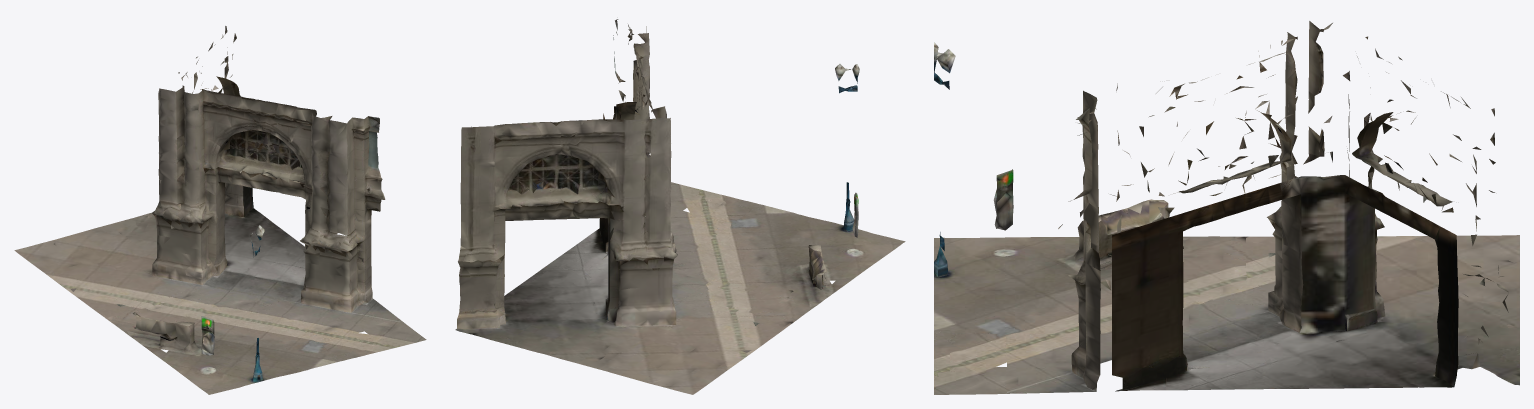
3 views of the same model, side by side, from view 1: azimuth 30°, elevation 25°; view 2: azimuth 150°, elevation 25°; view 3: azimuth 270°, elevation 25° (orthographic). The views are drawn at different scales.
Size of the model in its own units: 10.62 by 8.84 by 16.46.
1 material, 1 textured.
